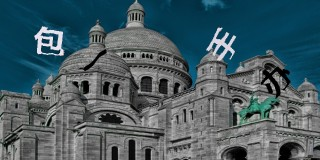一: (81, 48, 109, 71)
办: (261, 67, 291, 98)
包: (33, 26, 65, 56)
手: (205, 25, 237, 61)
